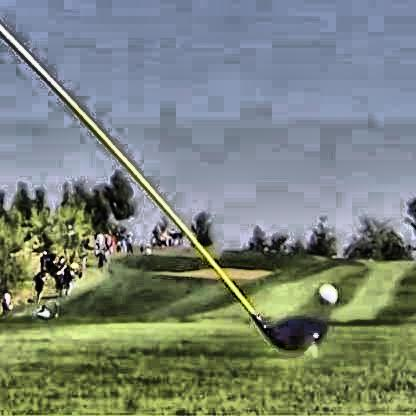golfball: (314, 281, 335, 304)
